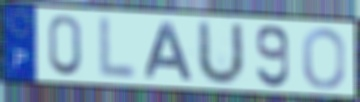0: (46, 13, 84, 77)
9: (254, 24, 291, 88)
A: (143, 21, 196, 83)
L: (96, 15, 139, 83)
O: (300, 26, 347, 91)
U: (195, 18, 247, 87)
